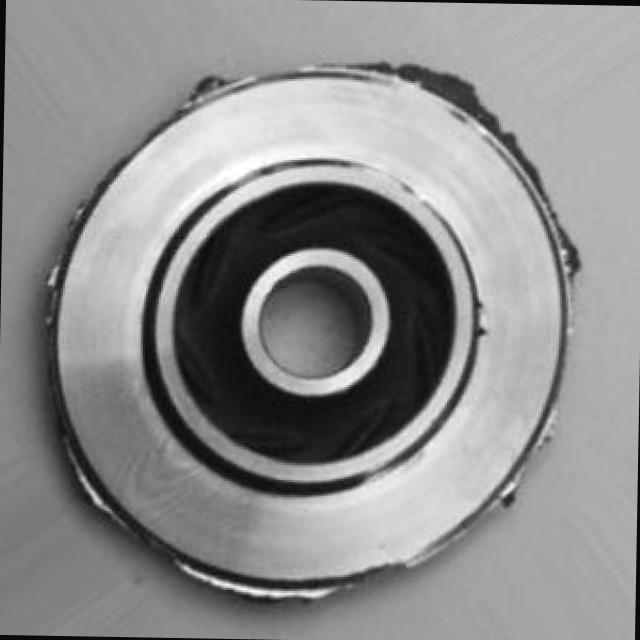Defect: (410, 52, 481, 110)
